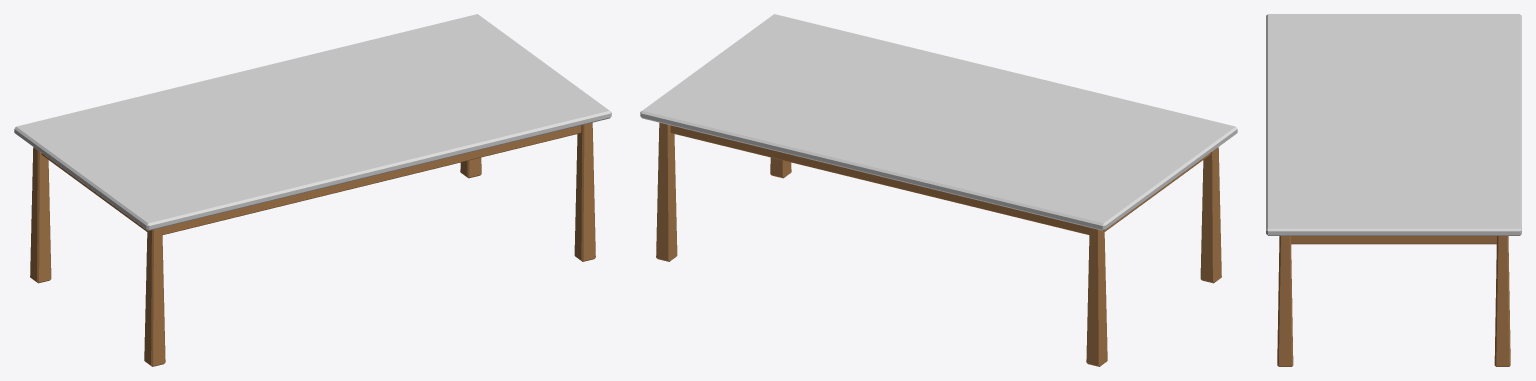
The model's file is table-meeting-8.glb.
3 renders of one model, left to right at view 1: azimuth 30°, elevation 25°; view 2: azimuth 150°, elevation 25°; view 3: azimuth 270°, elevation 25°, orthographic. The views are drawn at different scales.
Visible parts, largest first — view 1: table-meeting-8.tint, table-meeting-8.wood; view 2: table-meeting-8.tint, table-meeting-8.wood; view 3: table-meeting-8.tint, table-meeting-8.wood.
Part boxes in pixels (x1,y1,x2,y2): table-meeting-8.tint: (14, 14, 611, 230); table-meeting-8.wood: (30, 122, 595, 366); table-meeting-8.tint: (640, 14, 1237, 230); table-meeting-8.wood: (656, 122, 1221, 366); table-meeting-8.tint: (1266, 14, 1521, 235); table-meeting-8.wood: (1277, 236, 1510, 366).
Size of the model in its own units: 2.4 by 0.74 by 1.2.
